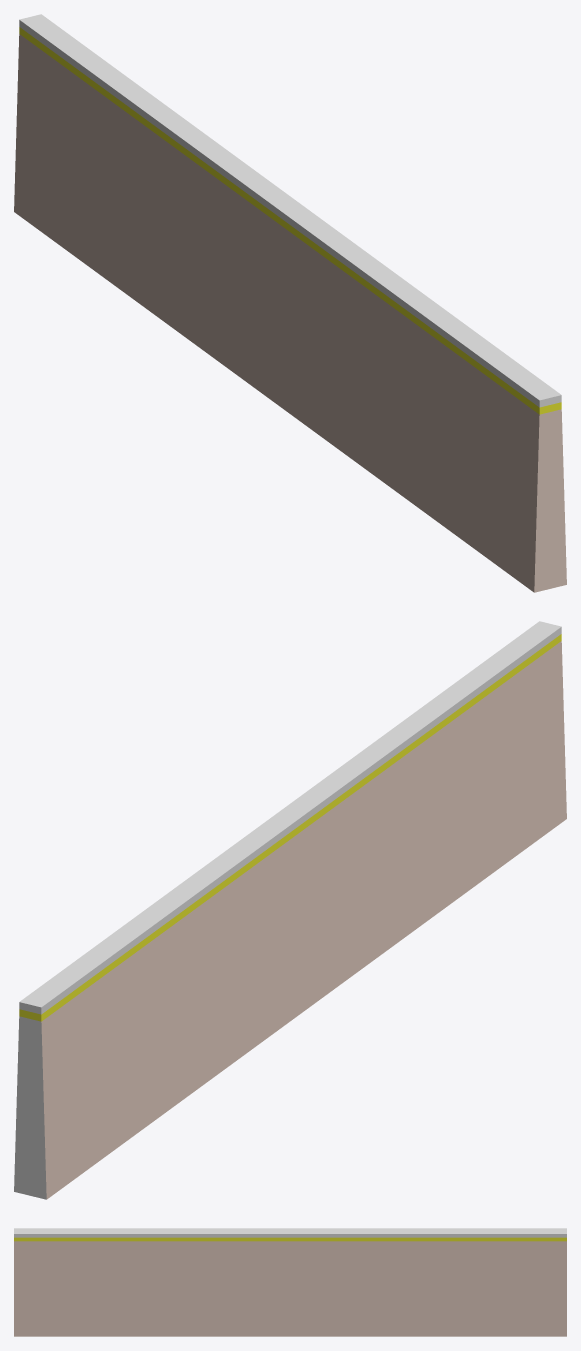
Rendered from DustCity_InnerWallsMedium.fbx.
The picture shows the model from 3 angles, top to bottom: view 1: azimuth 30°, elevation 25°; view 2: azimuth 150°, elevation 25°; view 3: azimuth 270°, elevation 25°; orthographic projection. The views are drawn at different scales.
Visible parts, largest first — view 1: DCInnerMediumWall; view 2: DCInnerMediumWall; view 3: DCInnerMediumWall.
Boxes of the visible parts, x1,y1,x2,y2 form: DCInnerMediumWall: [14, 14, 566, 592]; DCInnerMediumWall: [14, 621, 566, 1199]; DCInnerMediumWall: [14, 1228, 566, 1336].
Size of the model in its own units: 14.51 by 81.03 by 400.
